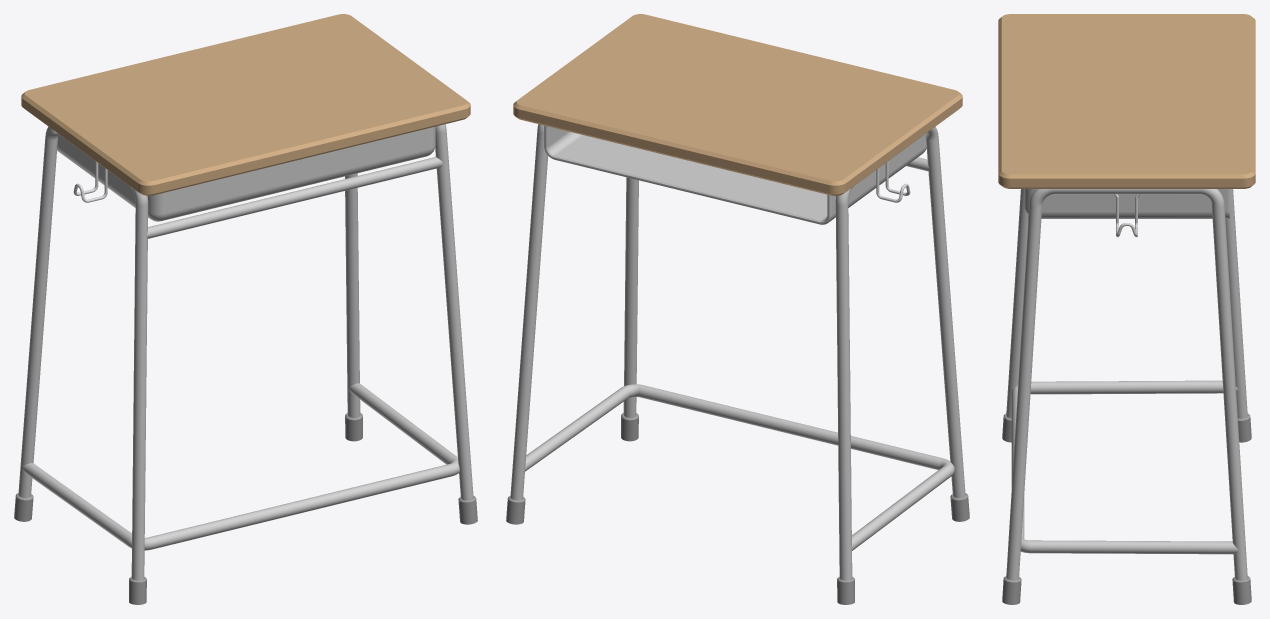
Rendered from 709_school_desk_L.glb.
The picture shows the model from 3 angles, left to right: view 1: azimuth 30°, elevation 25°; view 2: azimuth 150°, elevation 25°; view 3: azimuth 270°, elevation 25°; orthographic projection.
Visible parts, largest first — view 1: Body; view 2: Body; view 3: Body.
Part boxes in pixels (x1=…): Body: x1=14, y1=14, x2=477, y2=604; Body: x1=506, y1=14, x2=969, y2=604; Body: x1=998, y1=14, x2=1255, y2=604.
Size of the model in its own units: 0.628 by 0.731 by 0.4.
